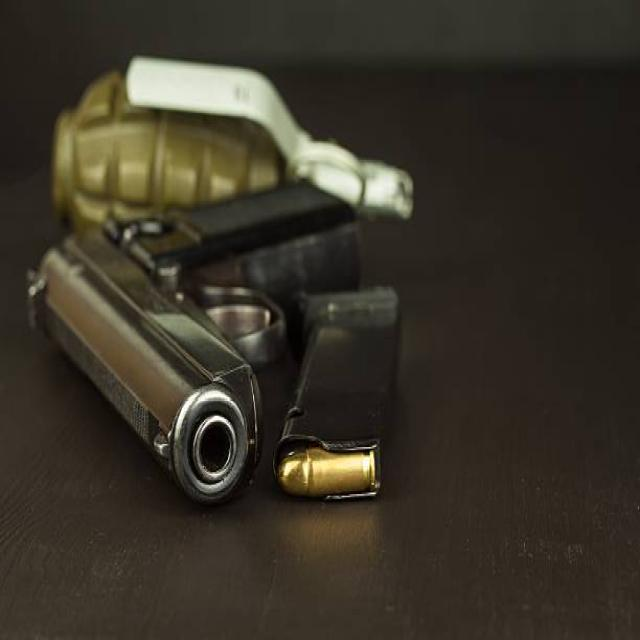grenade: (43, 54, 423, 225)
